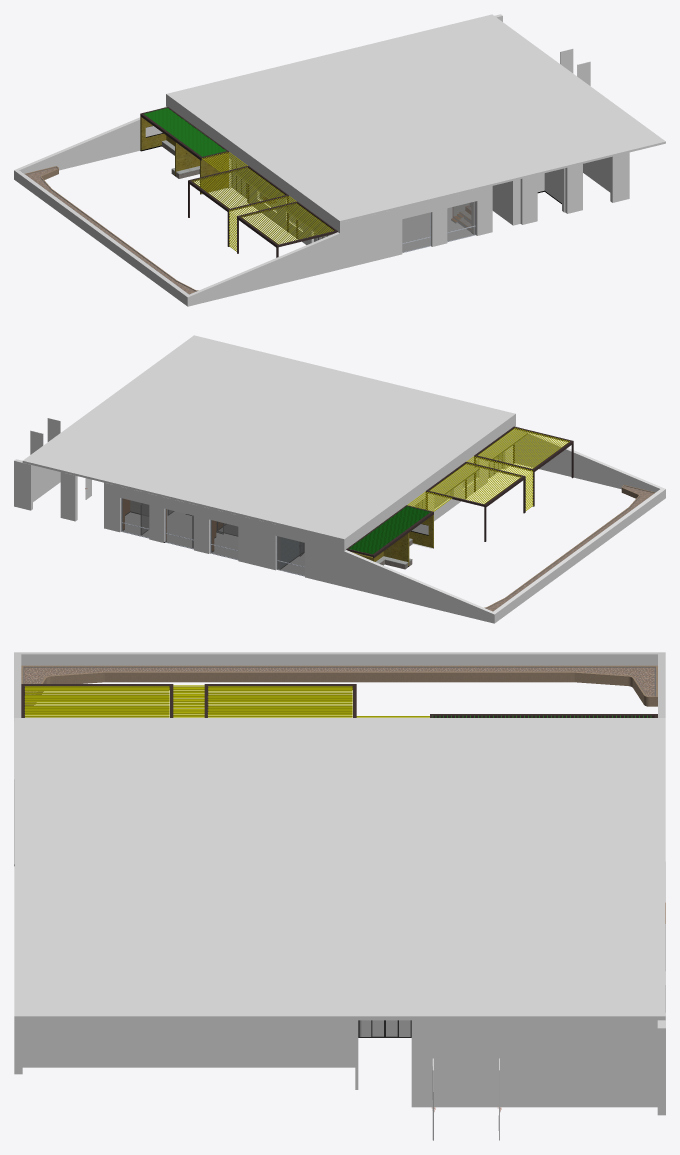
The model's file is MEGA_ARQ.glb.
3 views of the same model, one above another, from view 1: azimuth 30°, elevation 25°; view 2: azimuth 150°, elevation 25°; view 3: azimuth 270°, elevation 25° (orthographic). The views are drawn at different scales.
Visible parts, largest first — view 1: ARQ_3_1, ARQ_0_1, ARQ_1_0, ARQ_1_1, ARQ_2_0, ARQ_1_2, ARQ_3_0, ARQ_4_0, ARQ_1_3; view 2: ARQ_3_1, ARQ_0_1, ARQ_1_2, ARQ_3_3, ARQ_1_1, ARQ_1_0, ARQ_2_3, ARQ_4_3, ARQ_4_2, ARQ_3_2, ARQ_2_2; view 3: ARQ_3_1, ARQ_4_2, ARQ_0_1, ARQ_4_0, ARQ_1_0, ARQ_1_1, ARQ_4_1, ARQ_1_2, ARQ_4_3.
Part boxes in pixels (x1,y1,x2,y2): ARQ_3_1: (166,14,665,222); ARQ_0_1: (14,106,339,306); ARQ_1_0: (236,184,402,269); ARQ_1_1: (188,142,288,246); ARQ_2_0: (402,179,520,252); ARQ_1_2: (140,96,231,188); ARQ_3_0: (459,164,582,235); ARQ_4_0: (583,152,629,202); ARQ_1_3: (140,108,167,151); ARQ_3_1: (22,335,515,541); ARQ_0_1: (344,426,665,623); ARQ_1_2: (275,496,433,586); ARQ_3_3: (104,482,209,553); ARQ_1_1: (405,455,525,548); ARQ_1_0: (462,416,573,506); ARQ_2_3: (209,508,304,576); ARQ_4_3: (14,459,77,521); ARQ_4_2: (33,465,91,501); ARQ_3_2: (122,498,229,551); ARQ_2_2: (217,522,304,569); ARQ_3_1: (14,718,665,1036); ARQ_4_2: (411,1020,657,1107); ARQ_0_1: (14,652,665,721); ARQ_4_0: (14,1020,358,1089); ARQ_1_0: (14,684,204,865); ARQ_1_1: (204,684,440,717); ARQ_4_1: (358,1020,411,1037); ARQ_1_2: (430,714,657,717); ARQ_4_3: (657,971,665,1115).
Size of the model in its own units: 52.24 by 4.7 by 30.57.
54 materials, 27 textured.
